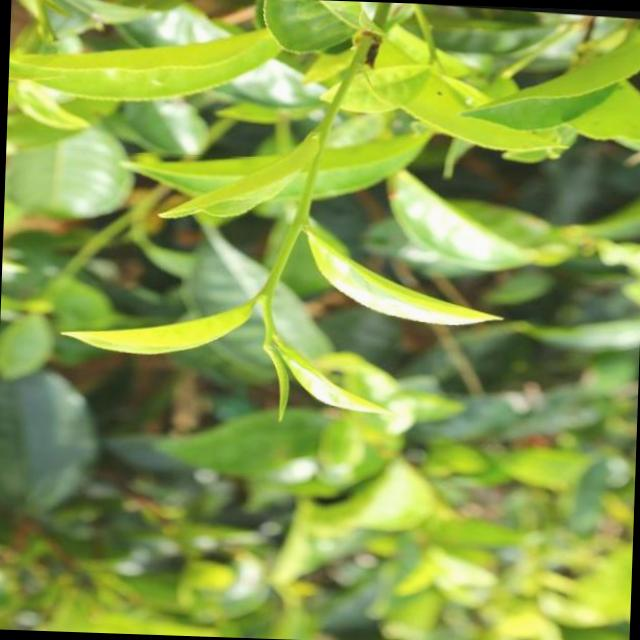Stem: (260, 281, 277, 296)
